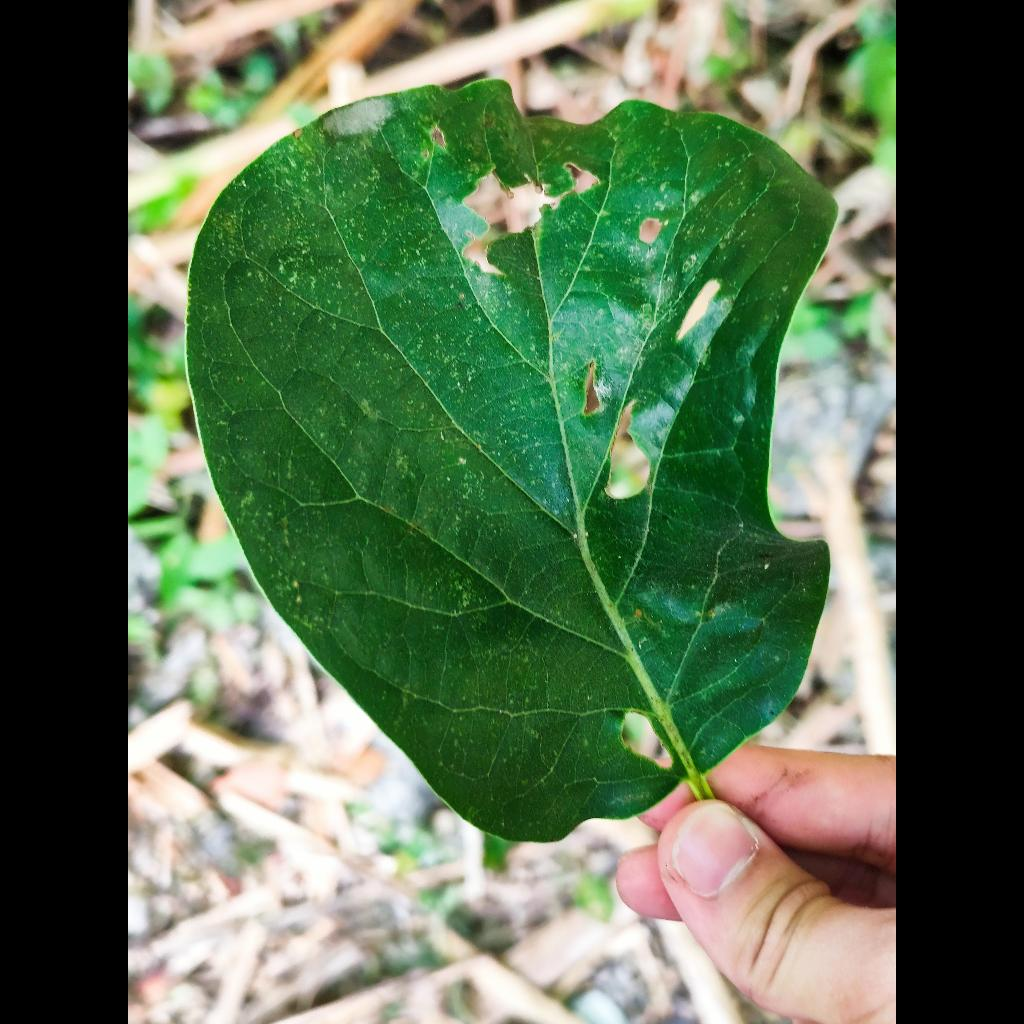plaga: (187, 81, 835, 841)
